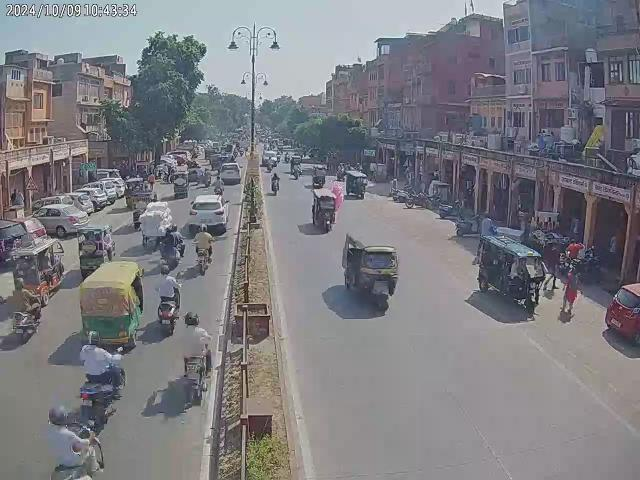auto: (78, 259, 146, 354), (474, 229, 548, 316), (342, 234, 400, 308), (13, 234, 65, 302), (77, 224, 115, 280), (310, 187, 338, 233), (344, 168, 367, 198), (125, 176, 146, 208), (173, 174, 189, 198), (312, 164, 326, 188)
car: (30, 201, 90, 238), (605, 282, 640, 342), (188, 192, 228, 235), (85, 177, 124, 201), (220, 162, 242, 185)
helmet: (48, 404, 70, 426), (183, 310, 200, 328), (85, 330, 102, 346), (14, 277, 25, 291), (160, 264, 170, 276), (198, 223, 208, 233), (170, 224, 179, 232), (166, 227, 173, 237)
motorbike: (570, 254, 602, 280), (404, 192, 426, 210)
motorbike-rider: (80, 329, 128, 419), (180, 312, 213, 408), (192, 226, 214, 274), (160, 225, 186, 261)
person: (562, 267, 582, 310)
scooty: (455, 213, 483, 237), (436, 198, 465, 218)
scooty-rider: (44, 406, 106, 480), (9, 277, 44, 343), (156, 264, 184, 332)
